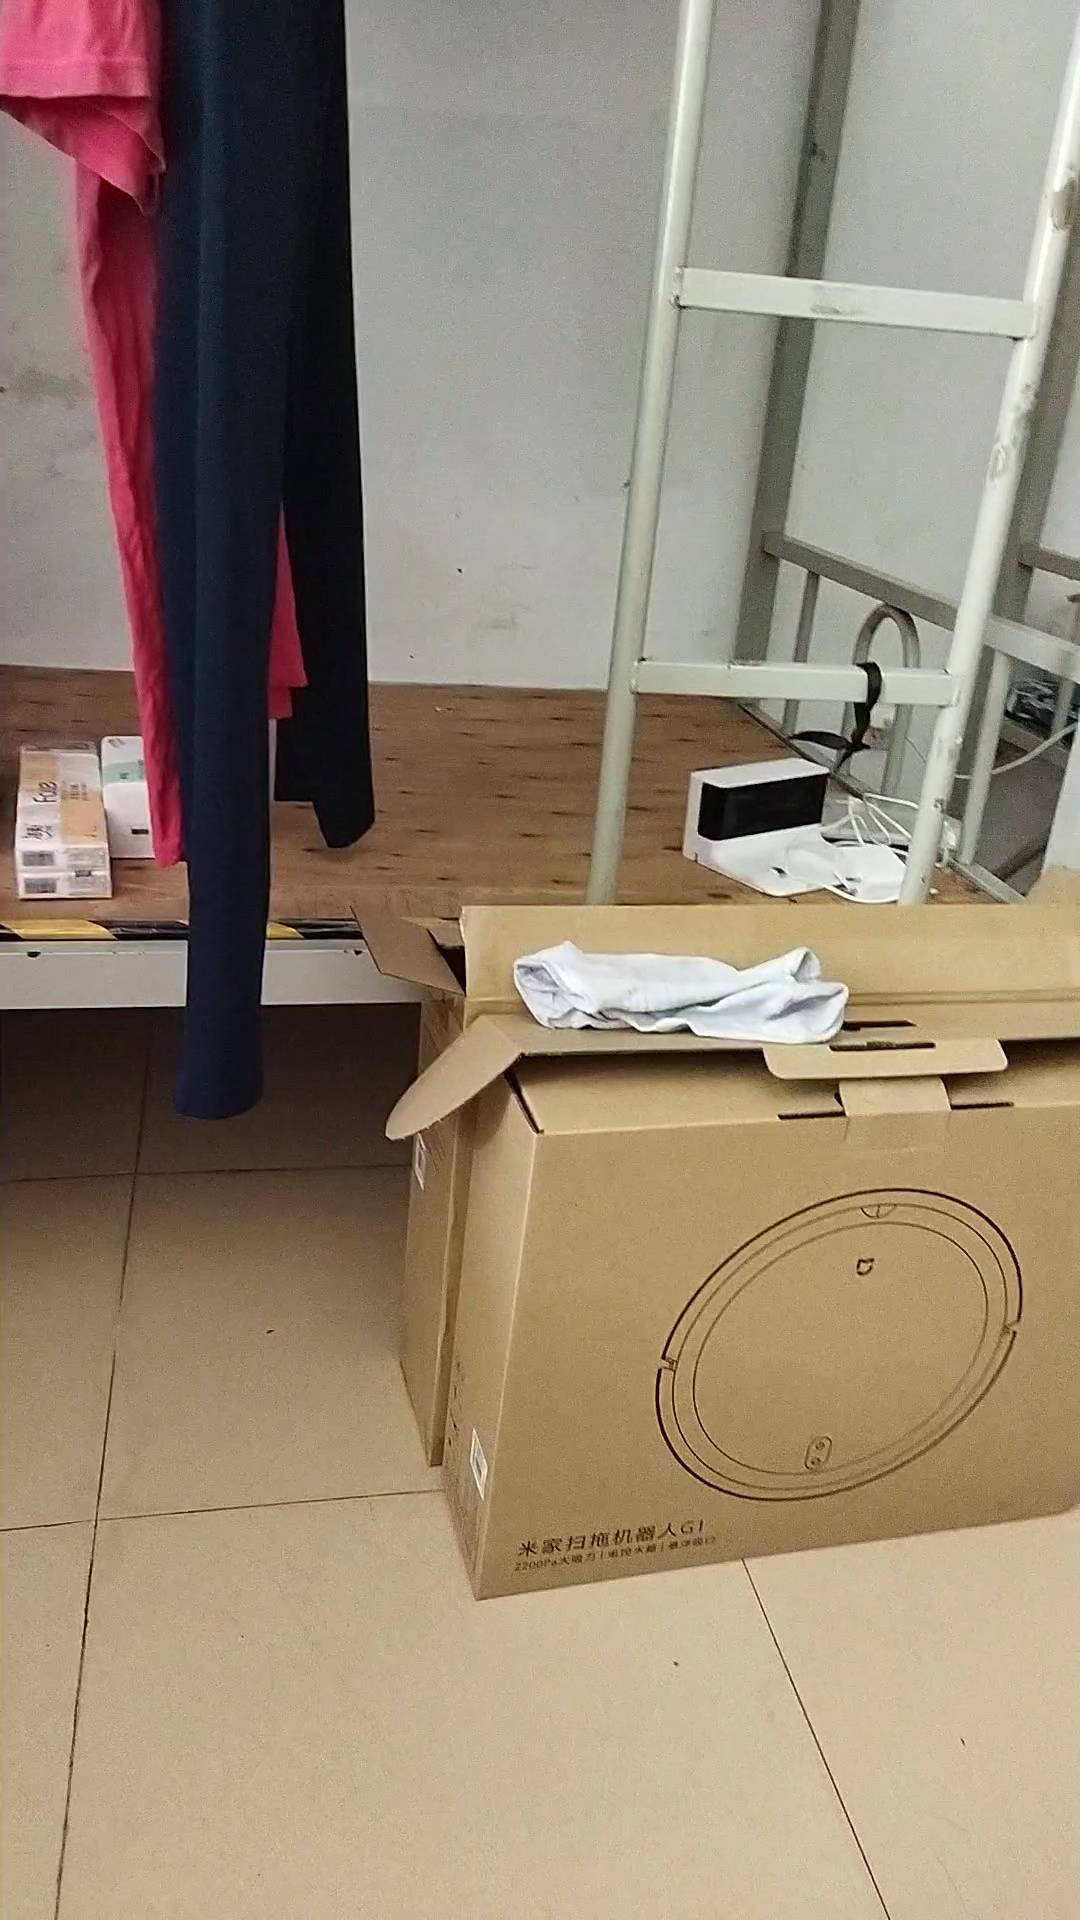recharge seat: (682, 756, 880, 899)
